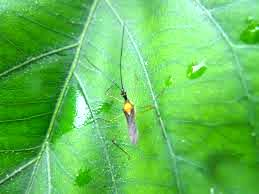Helopeltis-insect: (116, 89, 144, 148)
